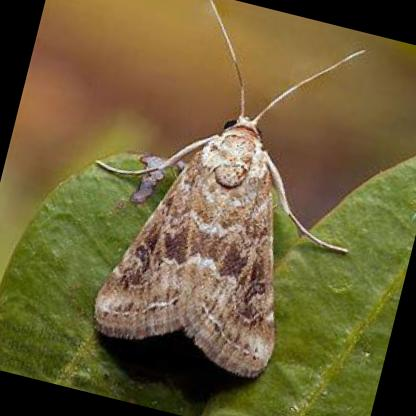Hellula undalis: (84, 0, 378, 392)
